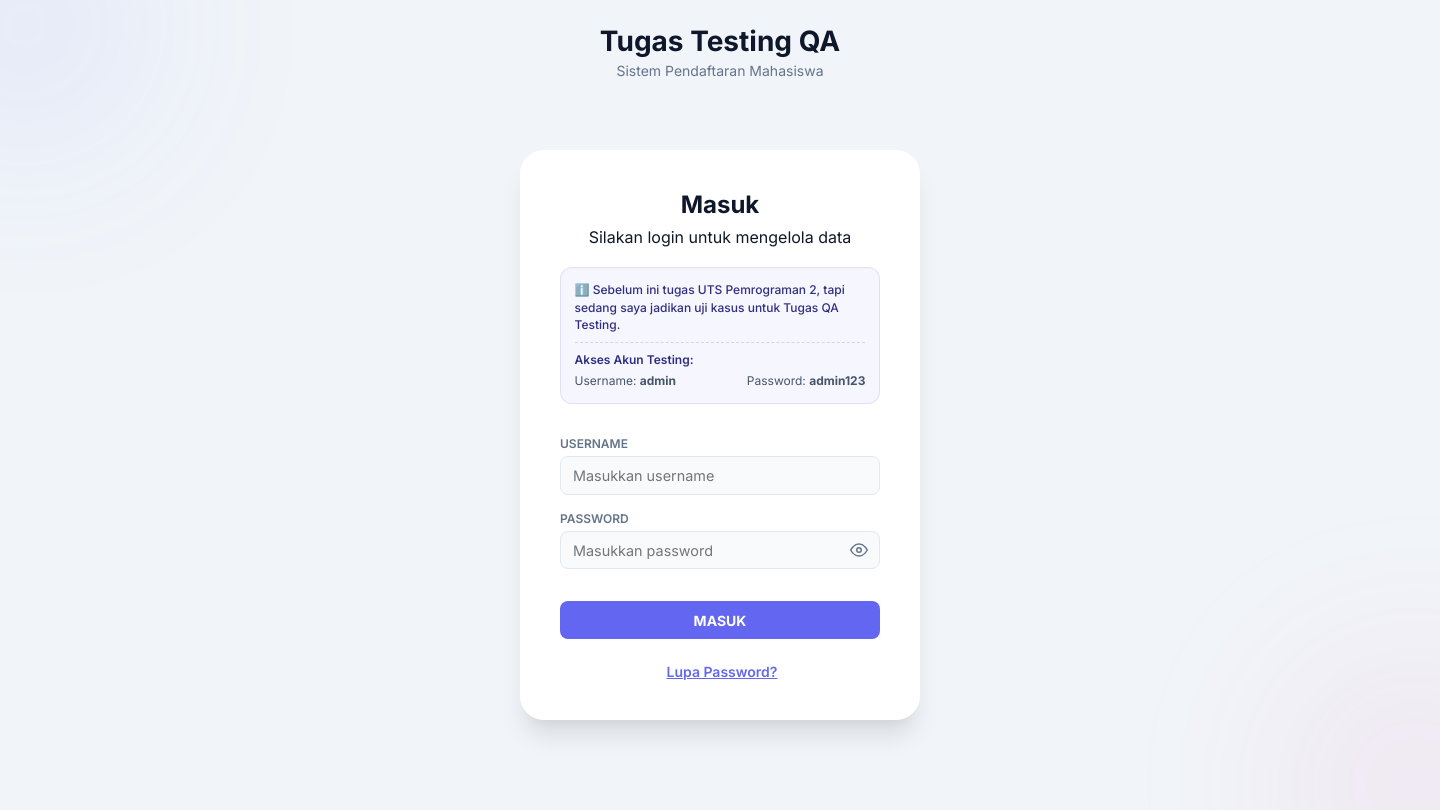
Test case: App Component › Authentication - Login Validation › 6. should login successfully with admin/admin123
The image size is (1440, 810).
Type "admin" into the field labelled "Username". click: (720, 476)
box: [560,456,880,495]
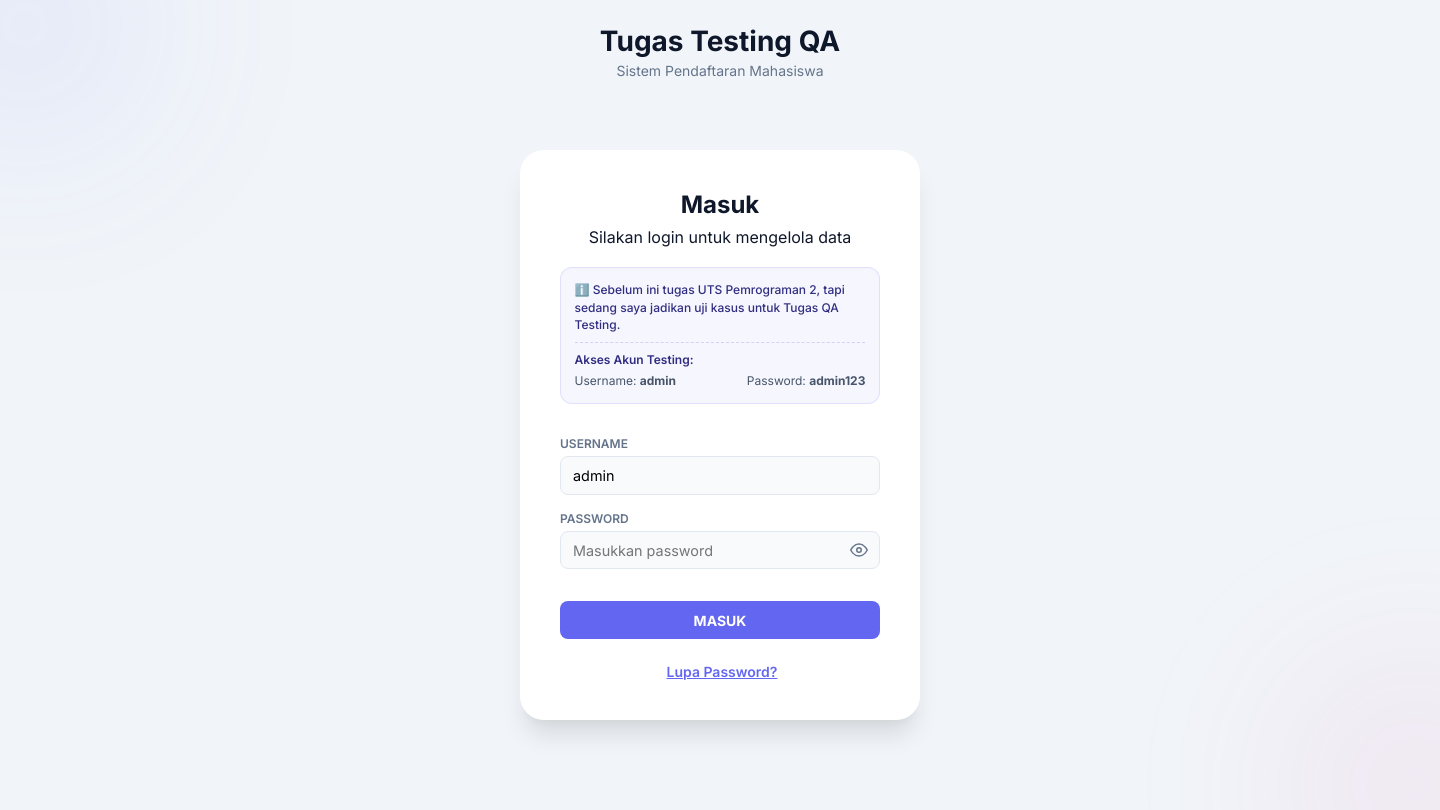
Type "admin123" into the password field labelled "Password". click: (720, 550)
box: [560,531,880,570]
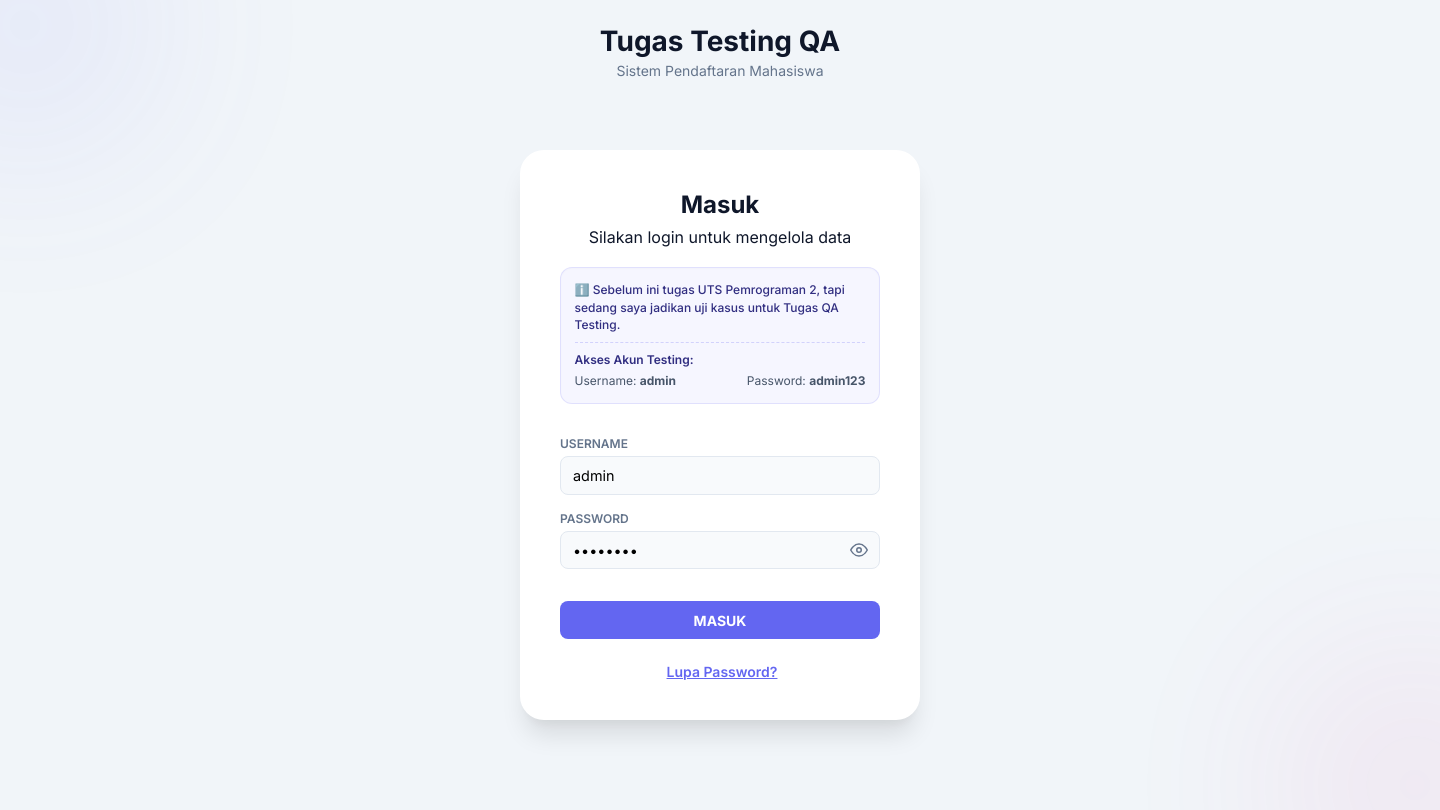
Click the button "MASUK". click: (720, 620)
box: [560,602,880,639]
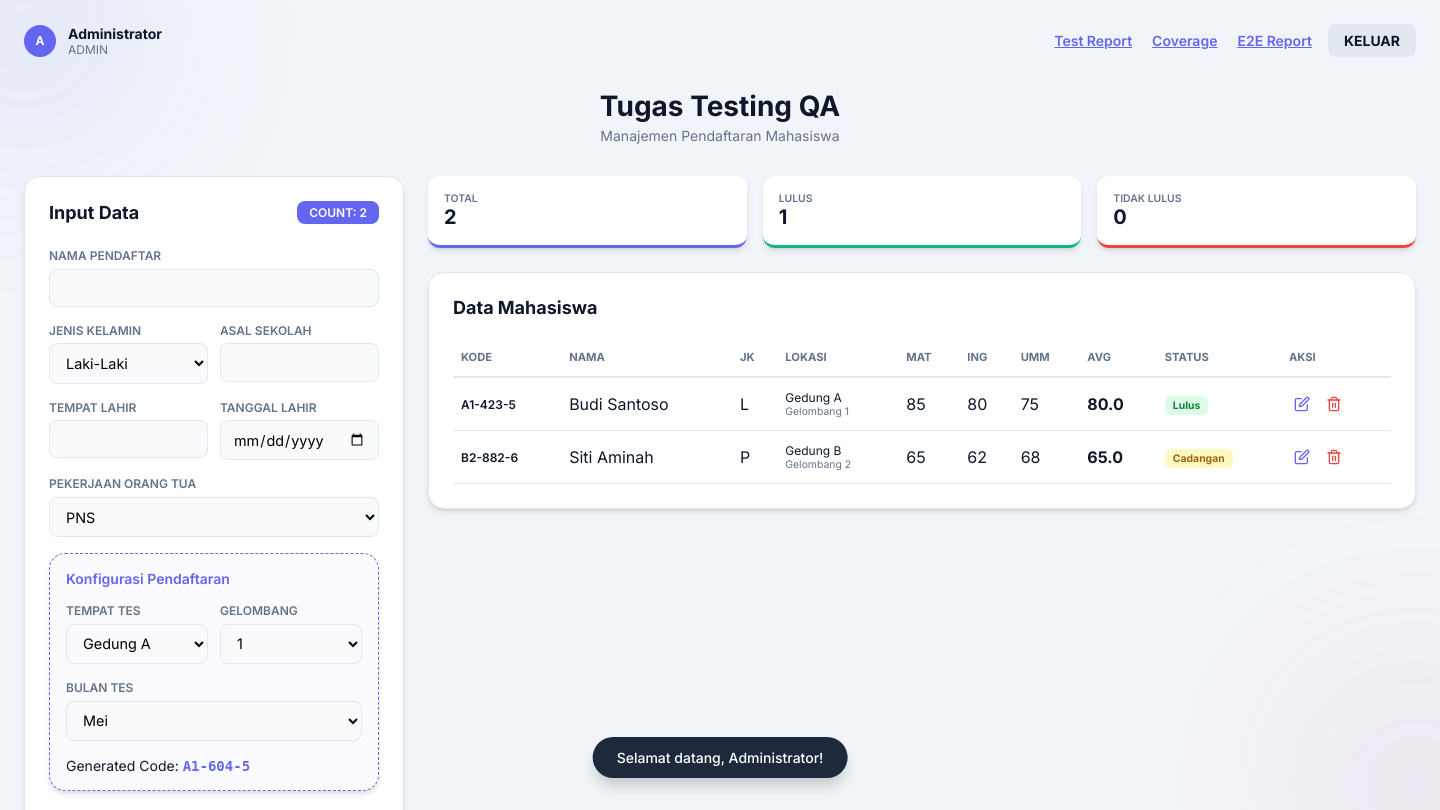
Expected: the text "Manajemen Pendaftaran Mahasiswa" is shown, [600,127,840,144]
